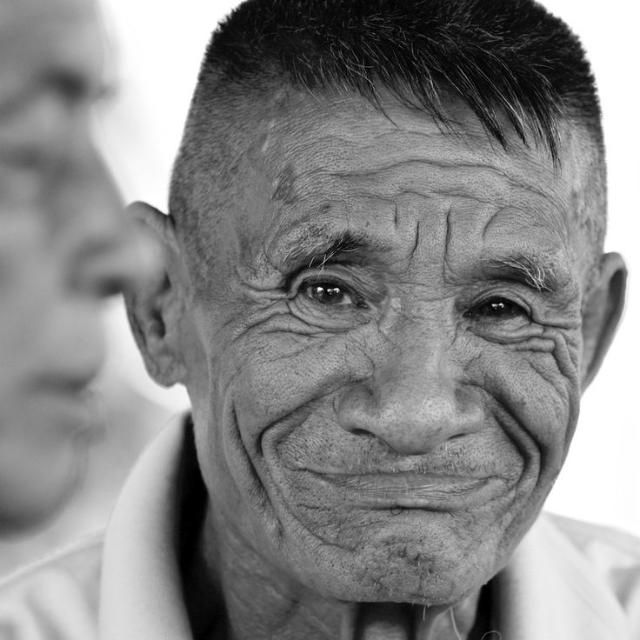chin: (292, 514, 356, 560)
crows_feet: (528, 316, 574, 376), (248, 273, 292, 327)
forehead: (372, 138, 496, 182), (508, 160, 546, 207), (434, 182, 494, 208), (319, 160, 371, 186), (390, 178, 430, 206), (474, 212, 502, 240), (381, 203, 405, 229)
frown_line: (439, 220, 458, 268), (406, 219, 426, 257)
gummy_smile: (486, 396, 546, 459), (256, 402, 310, 451)
masseter: (221, 418, 263, 486)
